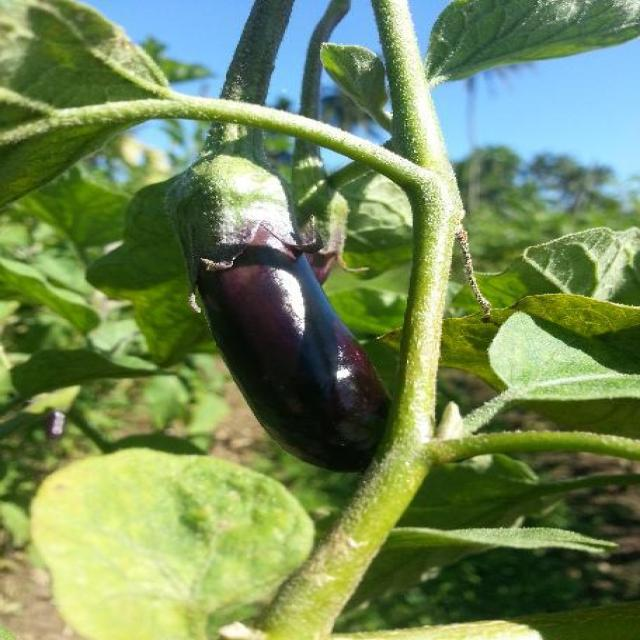eggplant: (164, 162, 408, 474)
